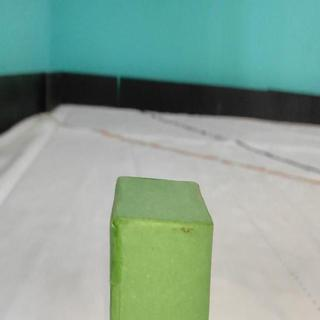greenbox: (108, 173, 216, 320)
